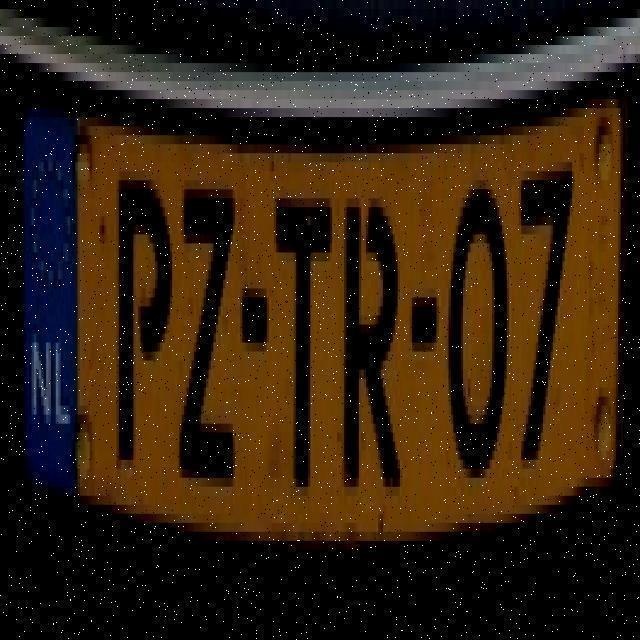license-plate: (8, 6, 640, 627)
